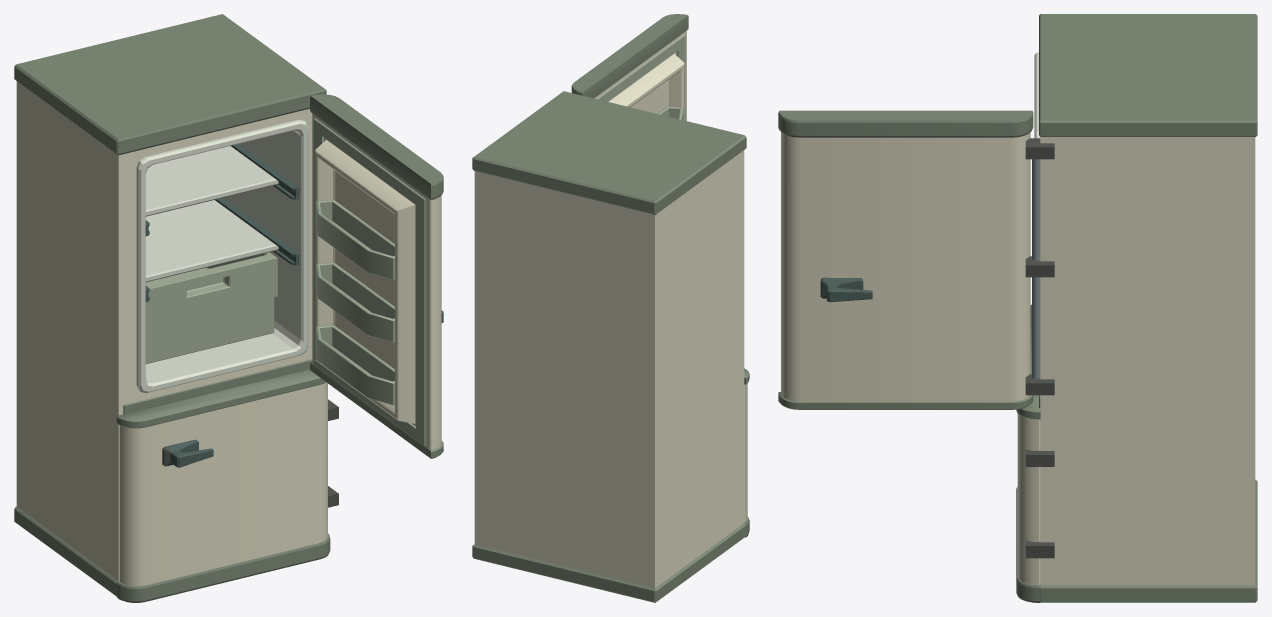
File: Refrigerator.fbx
3 views of the same model, side by side, from view 1: azimuth 30°, elevation 25°; view 2: azimuth 150°, elevation 25°; view 3: azimuth 270°, elevation 25° (orthographic). The views are drawn at different scales.
Parts seen in each view (by area): view 1: Refri004.016, Door002.009, Door001.009, Refri002.007, Refri002.008, Refri002.011; view 2: Refri004.016, Door001.009, Door002.009; view 3: Refri004.016, Door001.009, Door002.009.
Boxes of the visible parts, box(x1,y1,x2,y2) form: Refri004.016: box(14, 14, 338, 596); Door002.009: box(116, 369, 330, 602); Door001.009: box(310, 94, 443, 458); Refri002.007: box(145, 252, 277, 363); Refri002.008: box(145, 200, 278, 282); Refri002.011: box(145, 146, 278, 216); Refri004.016: box(472, 91, 746, 602); Door001.009: box(571, 14, 688, 120); Door002.009: box(744, 368, 749, 537); Refri004.016: box(1025, 14, 1257, 602); Door001.009: box(778, 110, 1033, 409); Door002.009: box(1016, 304, 1040, 602).
Bounding box in the file's own units: 92.43 × 178 × 161.
4 materials, 2 textured.
